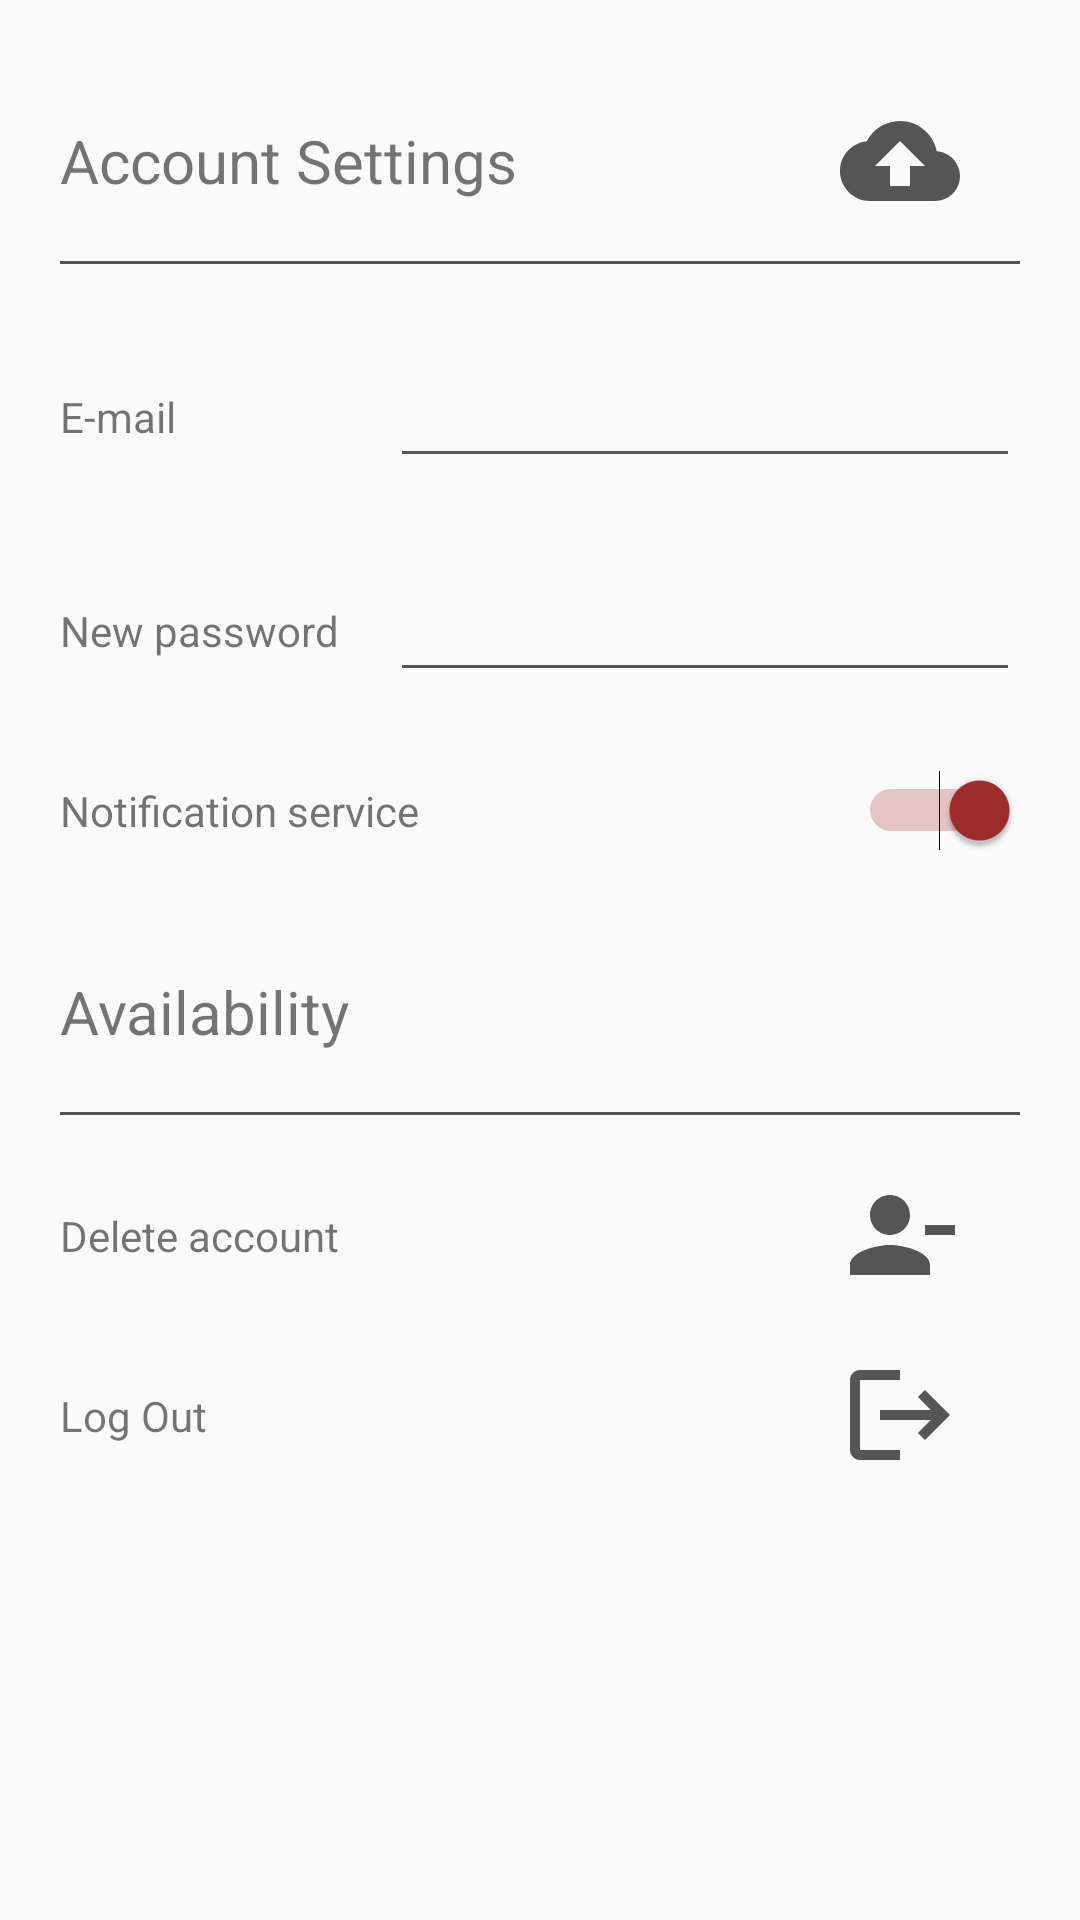

Where to tap for icons on this 1080 x 1920 app screen, as [x,y]:
cloud upload: [900,161]
person remove: [902,1235]
